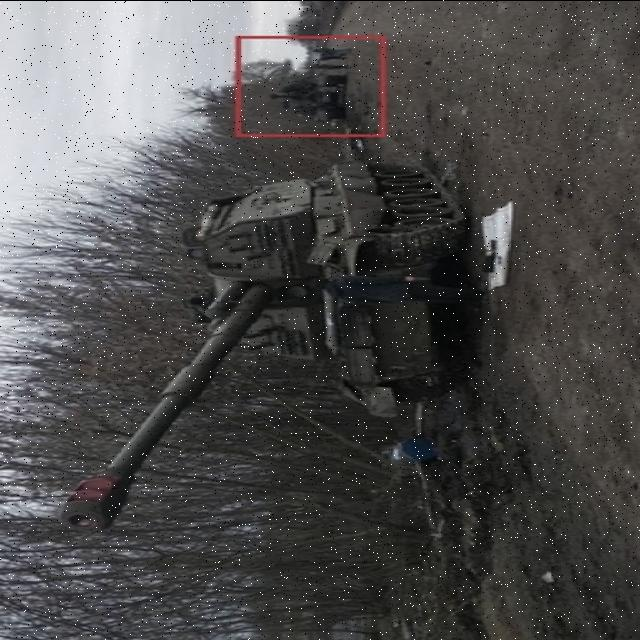ART: (49, 161, 482, 531), (264, 75, 348, 124)
